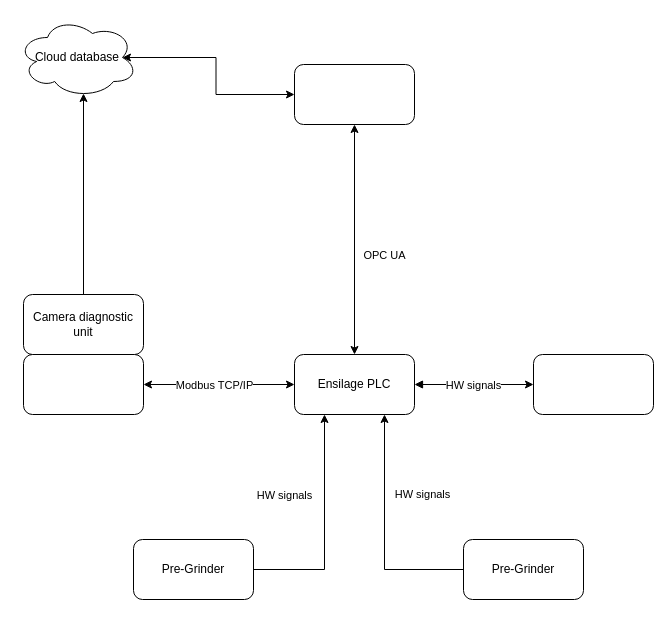
Some shapes in this 671 by 617 pixel diagram are drawn without their labels. Here are the shapes that lost their labels. From the top down, the box of each, then its label:
(294, 64, 414, 124): SiteControl
(22, 354, 144, 414): LiftUp
(532, 354, 654, 414): AcidDosing
